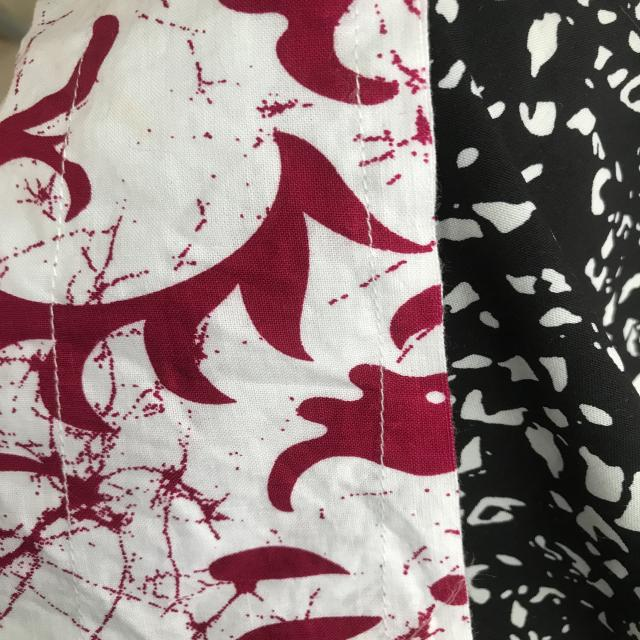good: (36, 306, 77, 418), (377, 377, 400, 461)
